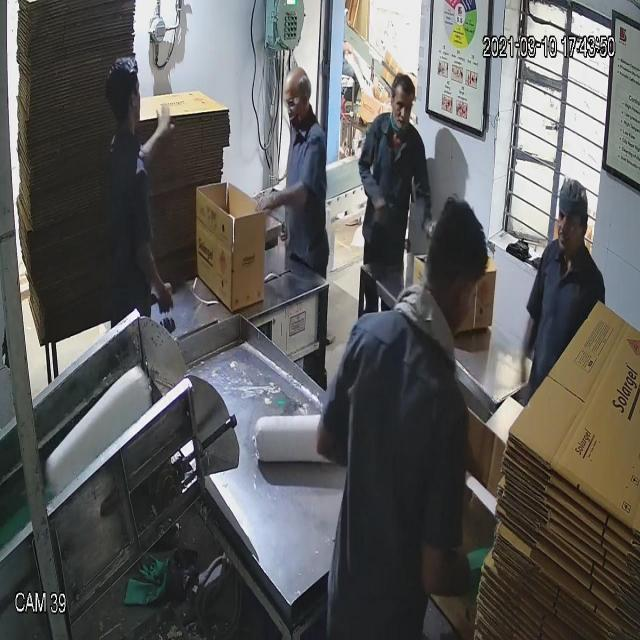No_Gloves: (43, 50, 283, 274)
